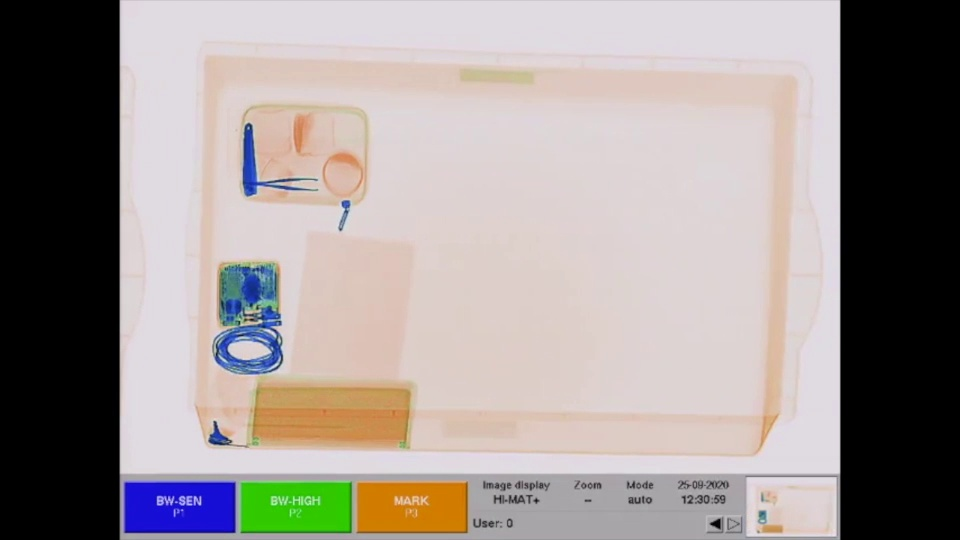tray_img: (175, 33, 828, 466)
